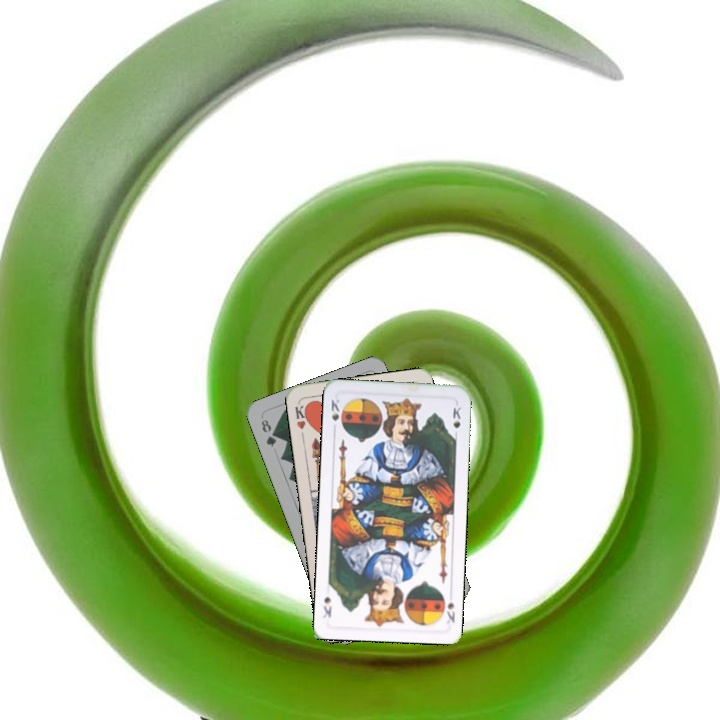G8: (257, 415, 279, 450)
HK: (291, 399, 312, 432)
SK: (438, 590, 457, 625), (327, 395, 342, 423)
